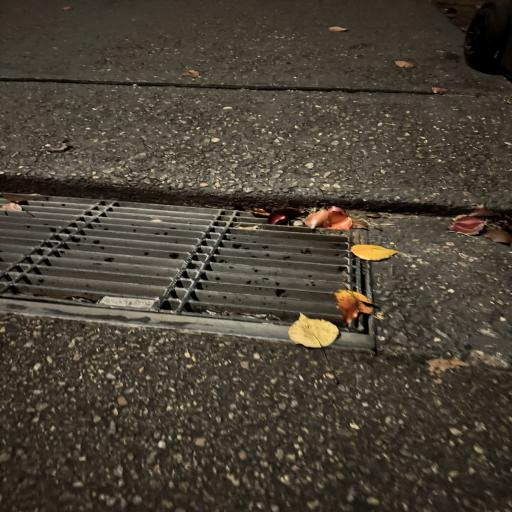debris: (449, 208, 512, 244), (288, 313, 339, 348), (302, 206, 357, 230), (335, 290, 373, 323), (250, 208, 302, 225), (350, 244, 397, 261), (0, 198, 24, 211), (183, 69, 199, 78), (395, 60, 413, 68), (329, 26, 346, 32), (432, 87, 446, 94)
gutter: (0, 194, 374, 351)
step: (0, 0, 512, 210)
